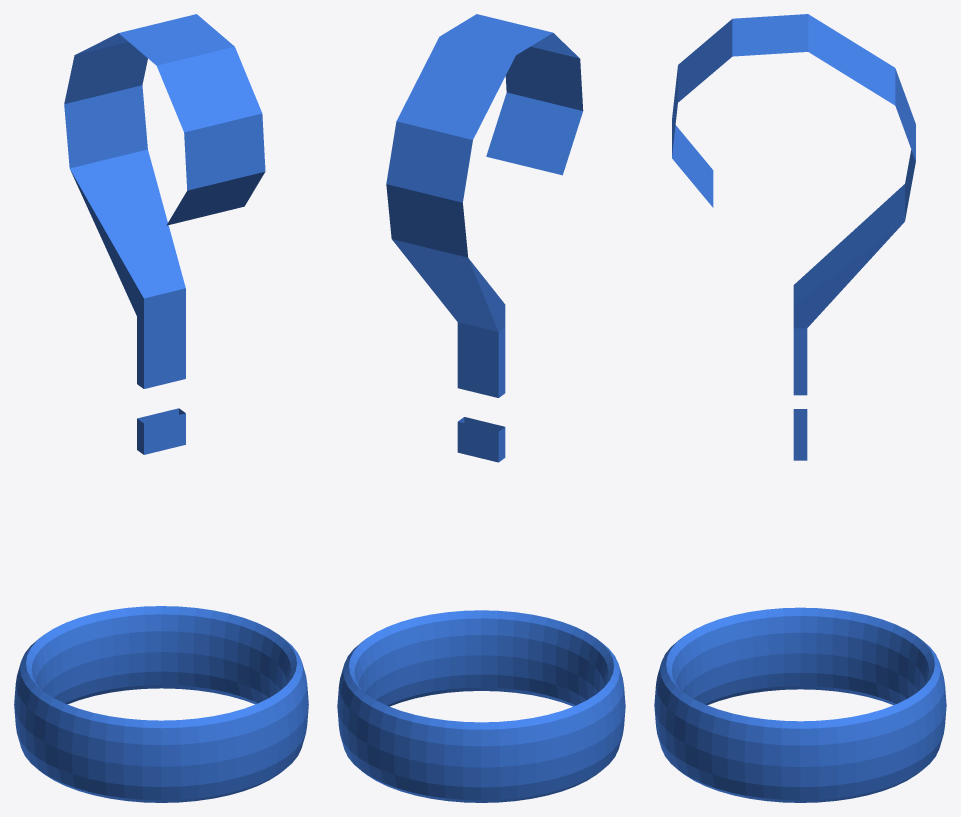
The model's file is questionmark1.glb.
The picture shows the model from 3 angles, left to right: view 1: azimuth 30°, elevation 25°; view 2: azimuth 150°, elevation 25°; view 3: azimuth 270°, elevation 25°; orthographic projection. The views are drawn at different scales.
Visible parts, largest first — view 1: Torus.002, Cube; view 2: Torus.002, Cube; view 3: Torus.002, Cube.
Boxes of the visible parts, <box> form: Torus.002: <box>14,606,308,802</box>; Cube: <box>64,14,265,454</box>; Torus.002: <box>337,610,625,802</box>; Cube: <box>386,14,583,462</box>; Torus.002: <box>654,607,946,802</box>; Cube: <box>672,14,915,460</box>.
Bounding box in the file's own units: 1.83 × 4.93 × 1.83.
